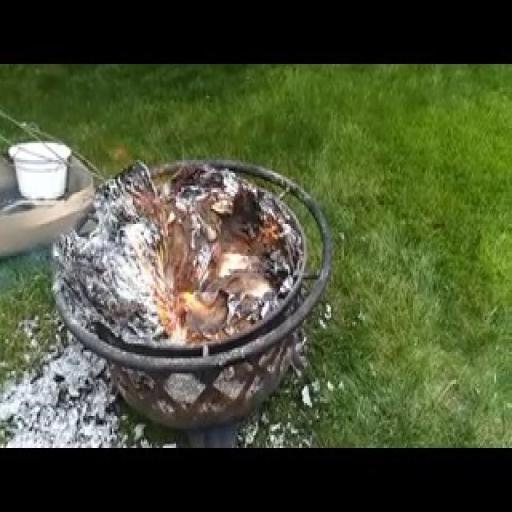smoke: (137, 234, 242, 355)
